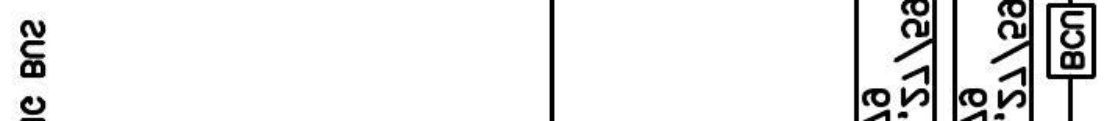BCU: (1045, 2, 1097, 80)
